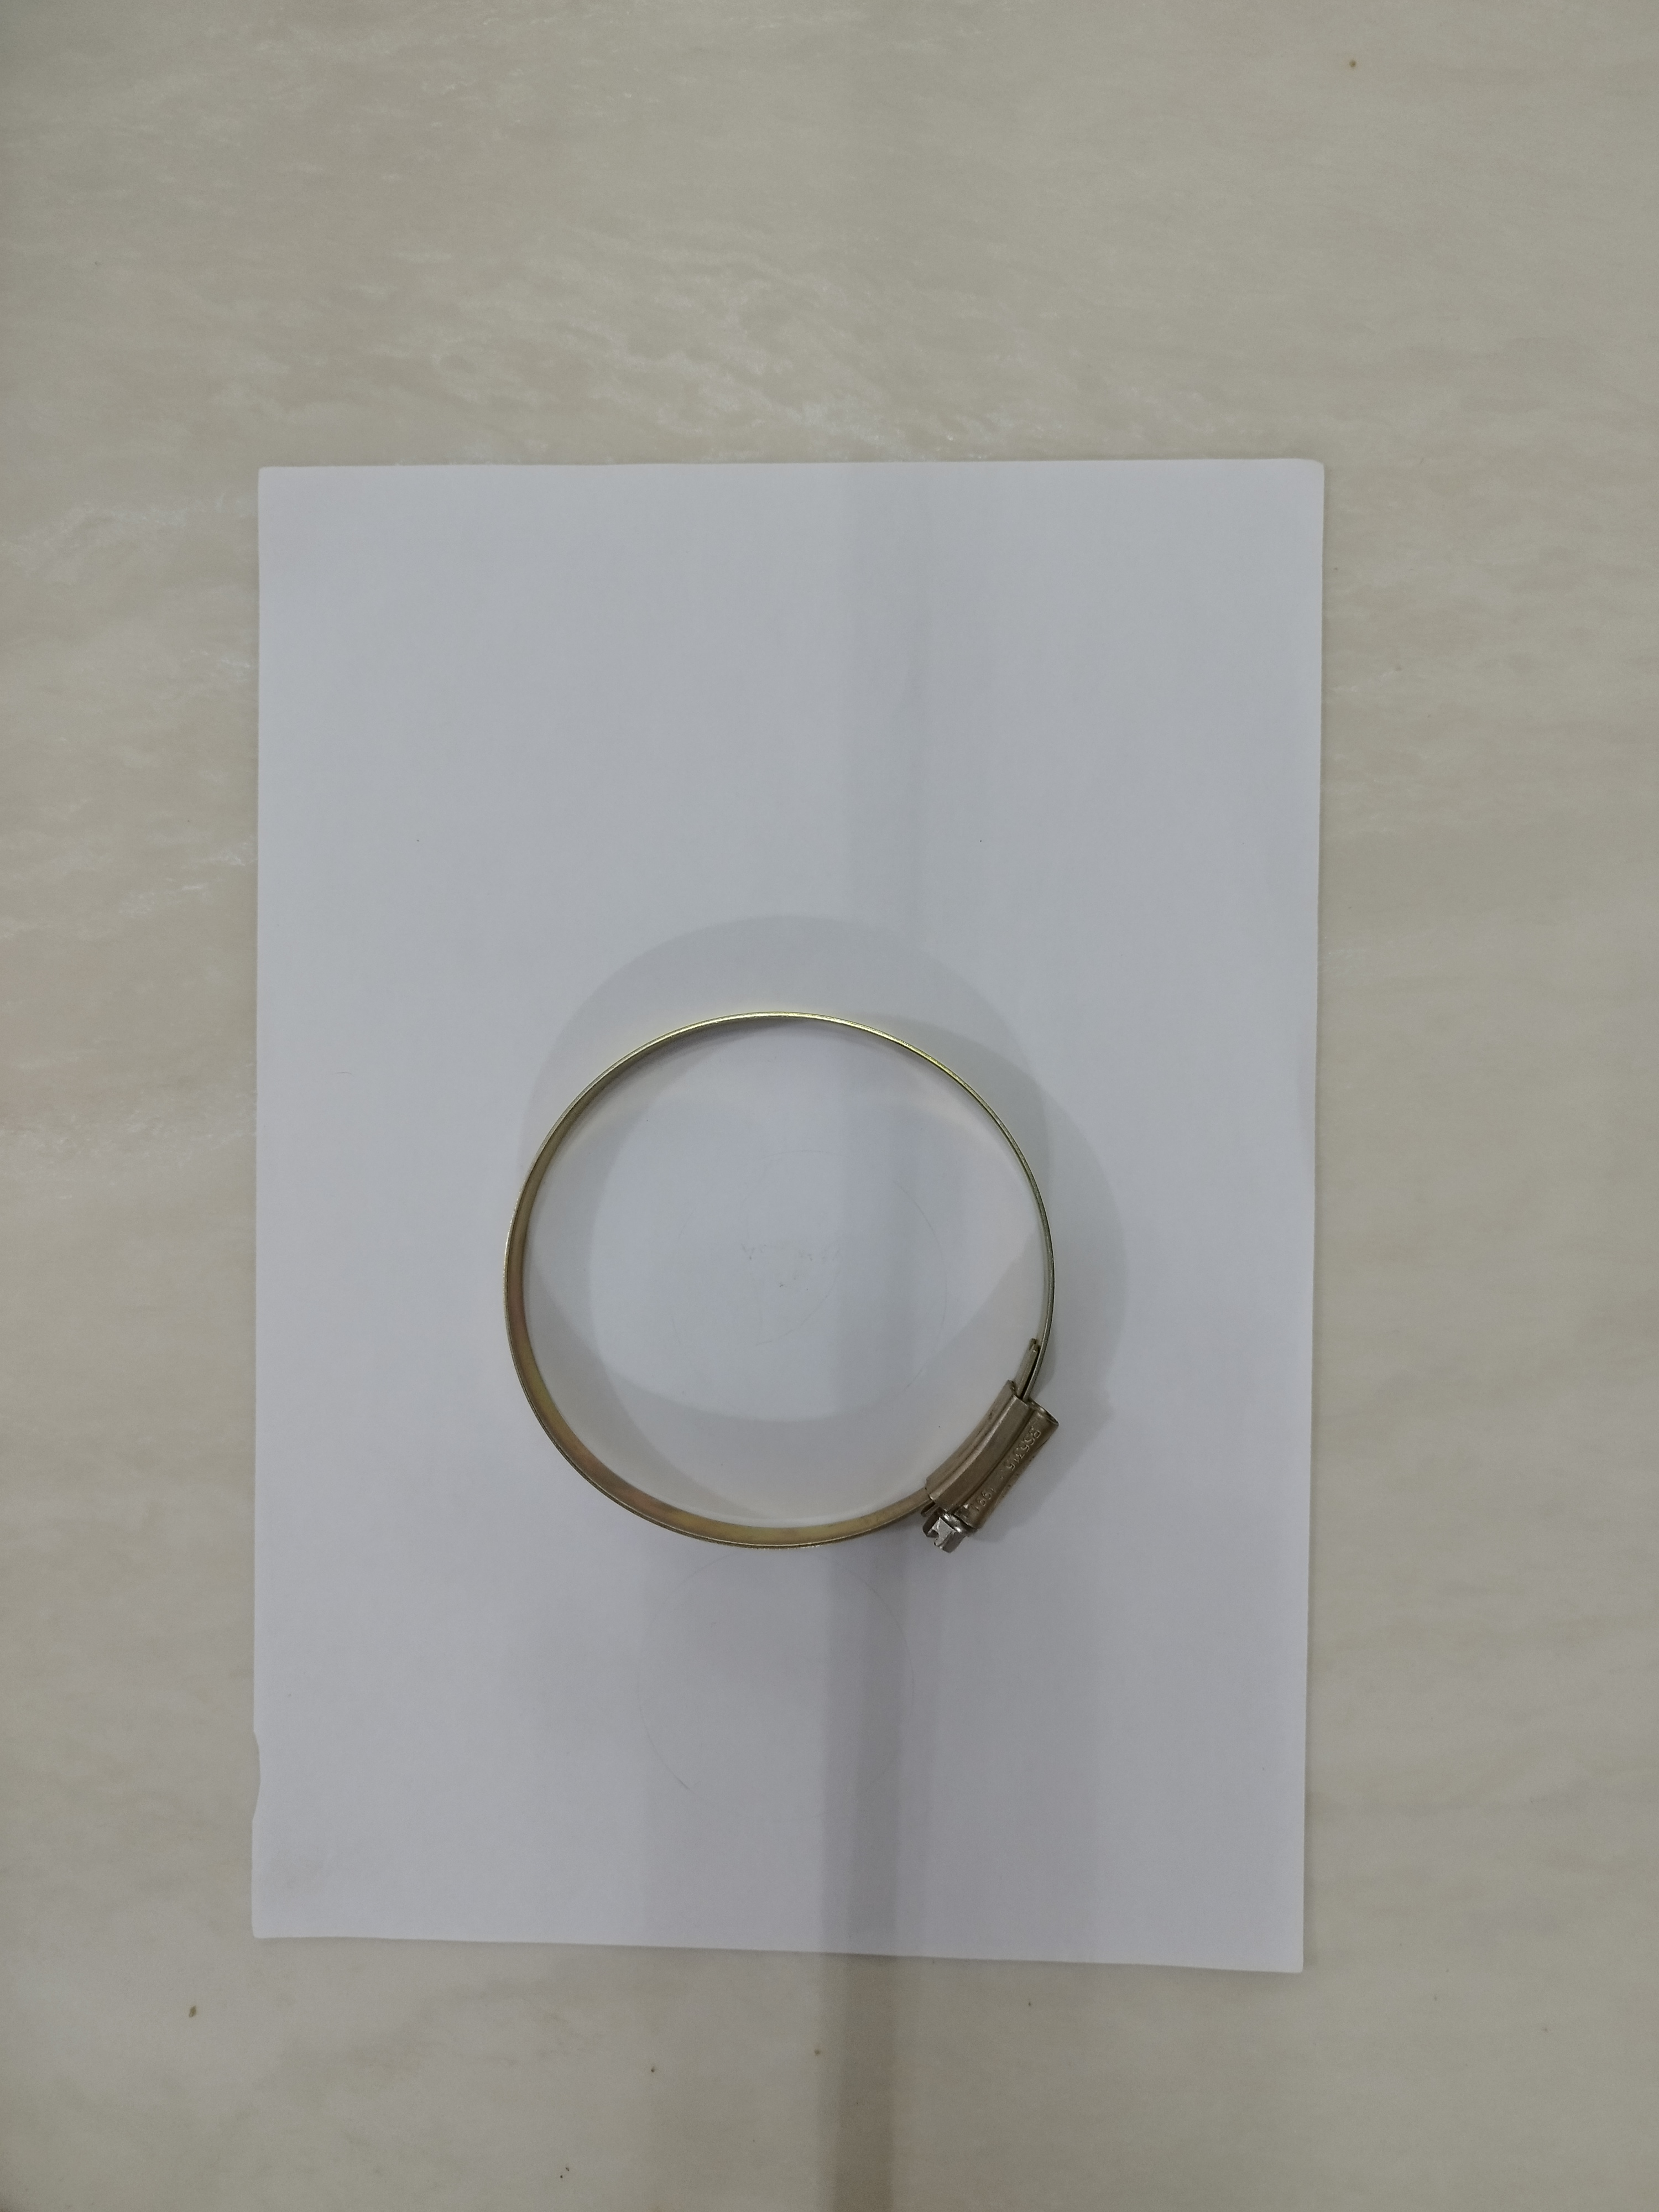ring_clamp: (477, 995, 1079, 1576)
